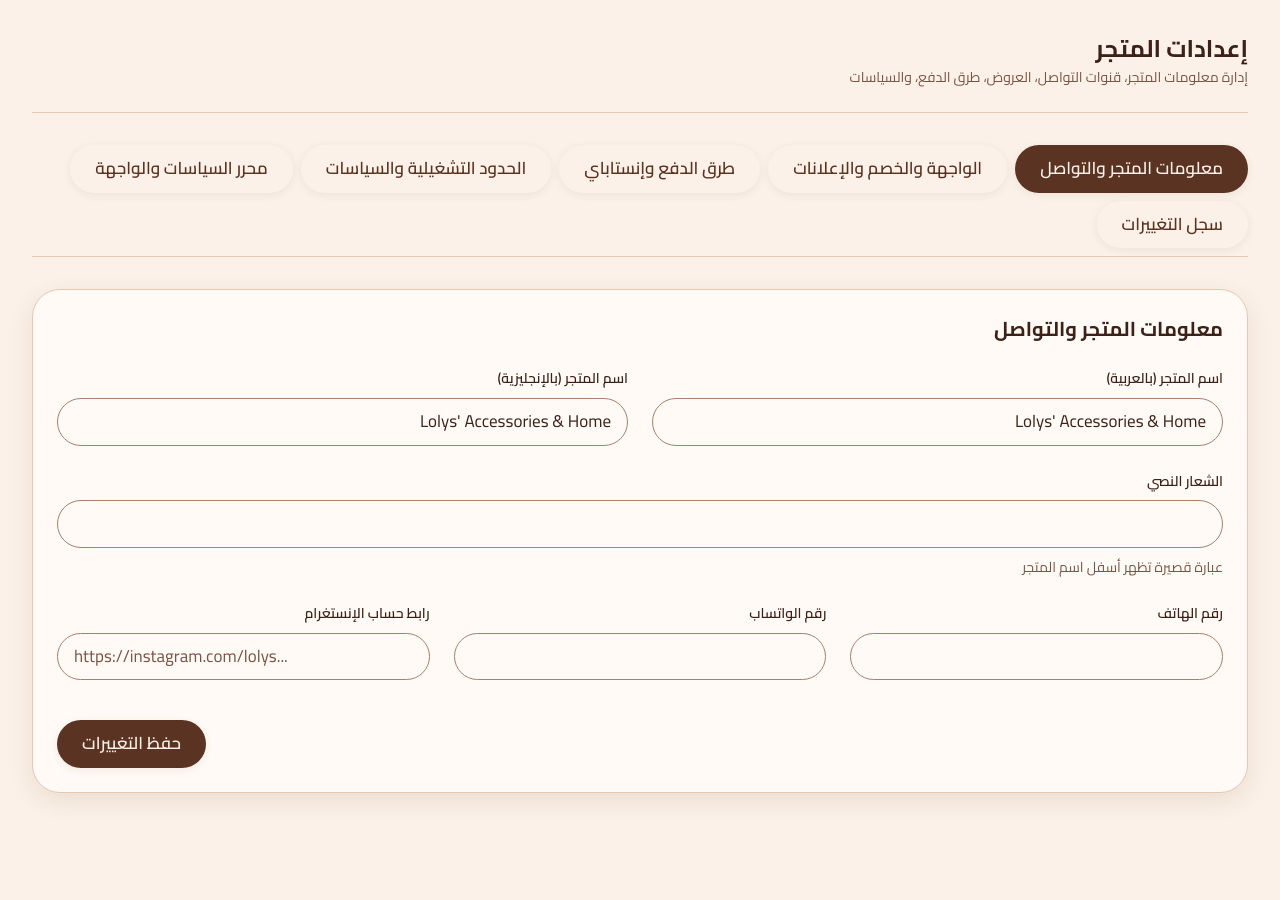
T-5.09: Admin Settings UI and step-up authorization › displays audit log tab with friendly translated labels and previous/new values
Expected: the heading "إعدادات المتجر" is shown, [1096, 26, 1248, 71]
Note: Switch to audit tab
Click the button "سجل التغييرات": (1172,225) [1096, 201, 1248, 248]
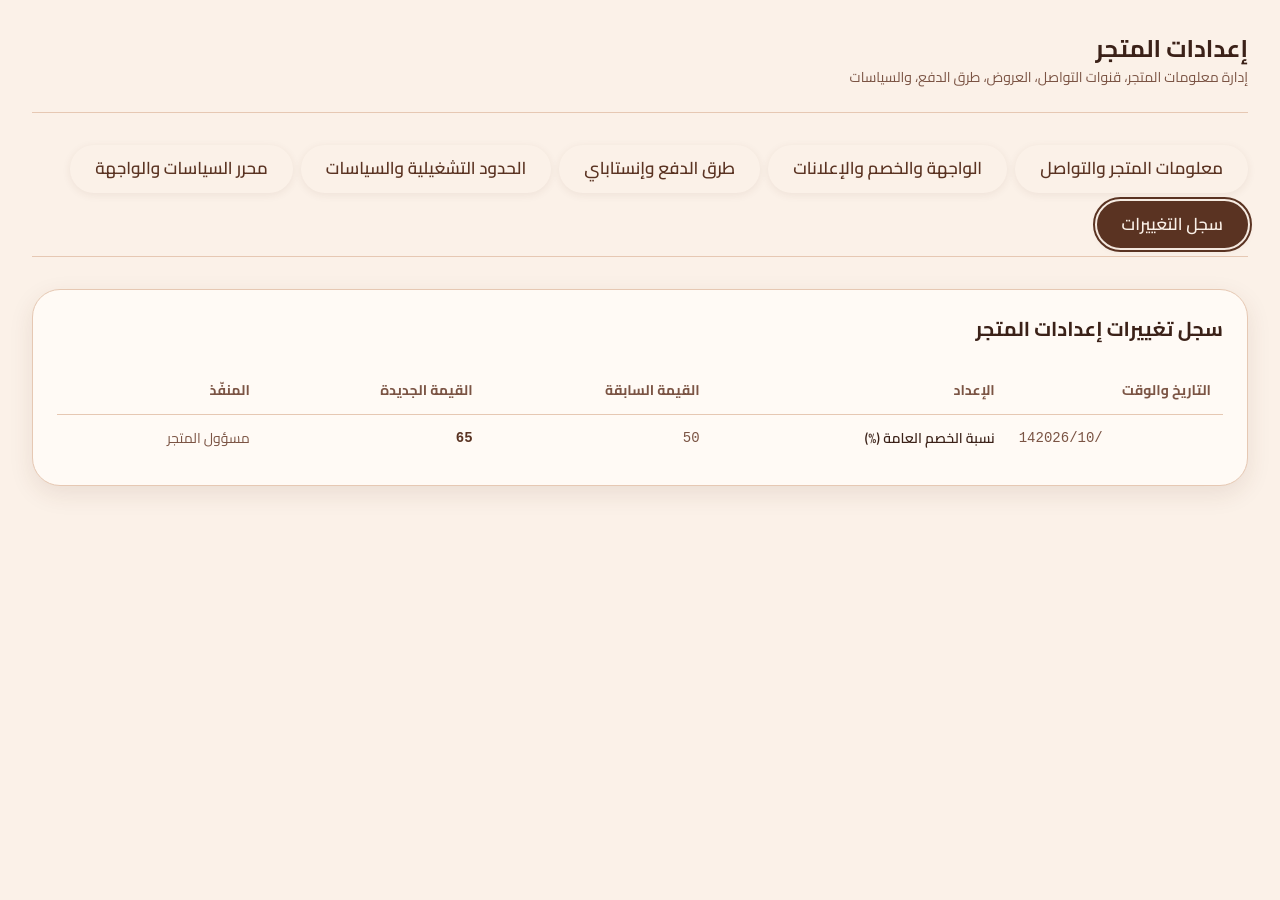
Result: the heading "سجل تغييرات إعدادات المتجر" is shown at [975, 310, 1223, 348]
Result: the text "نسبة الخصم العامة (%)" is shown at [712, 414, 1007, 461]
Result: the text "50" is shown at [485, 414, 712, 461]
